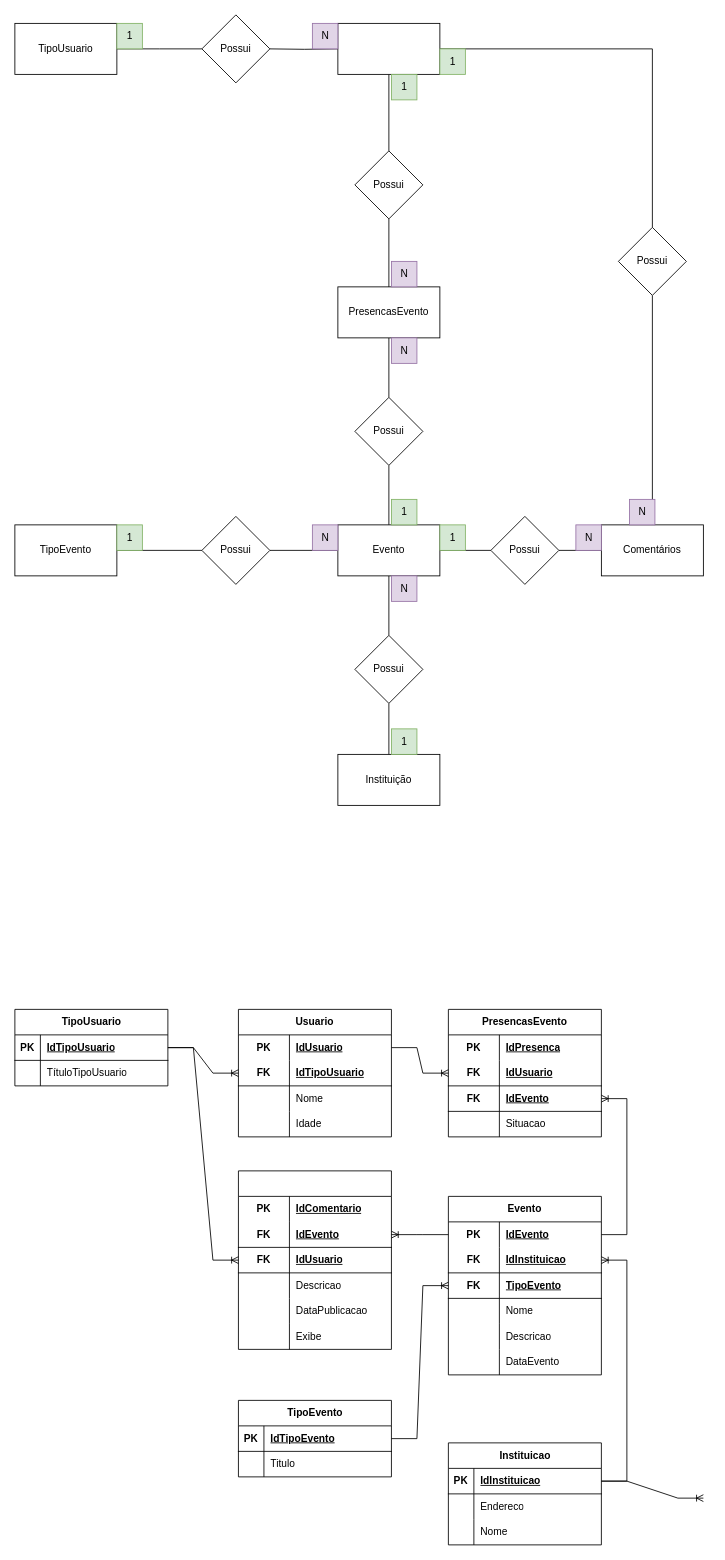
This 725x1560 diagram has some shape labels left out. The shapes that lost their labels are listed below. From the top down, each one's box as (x1, y1, x2, y2) in pixels, then its label:
(337, 23, 440, 74): Usuário
(238, 1170, 391, 1349): Comentarios
